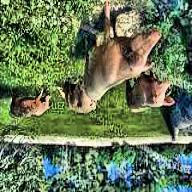boar: (69, 12, 168, 102), (118, 73, 176, 125), (0, 81, 59, 124)
